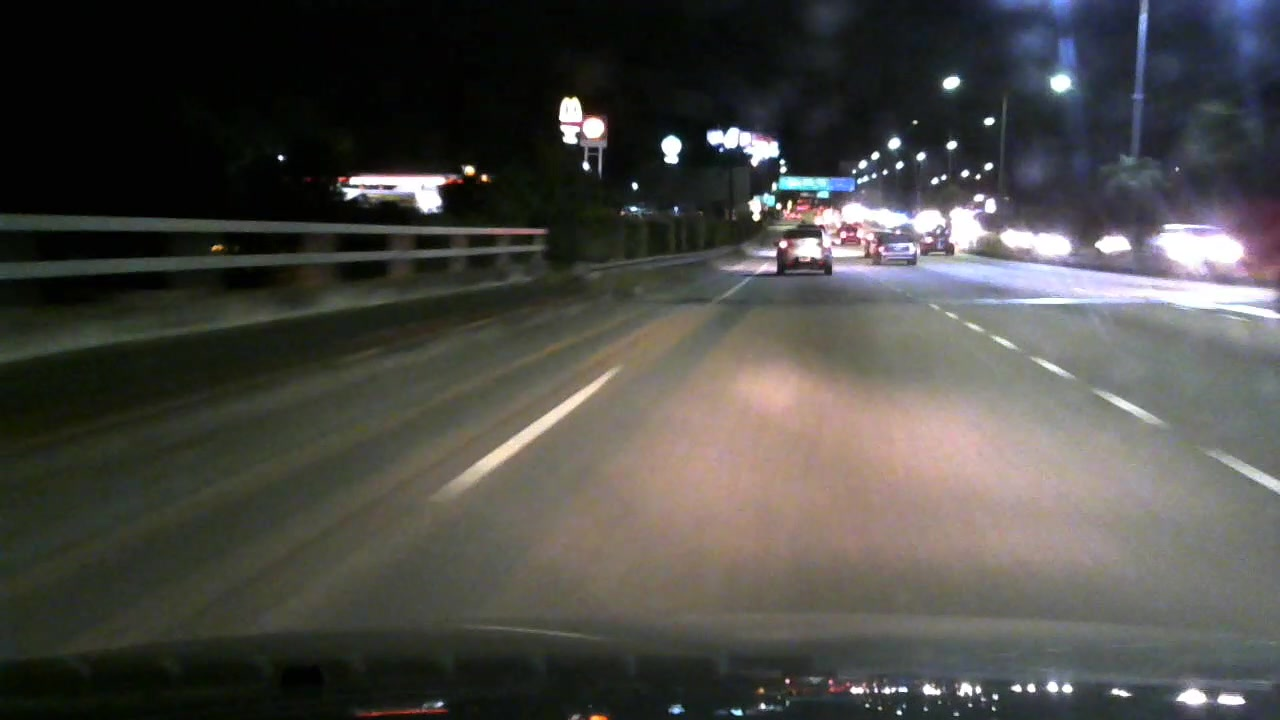Car: (774, 216, 842, 284), (868, 230, 926, 267), (916, 226, 958, 253), (835, 218, 863, 248)
